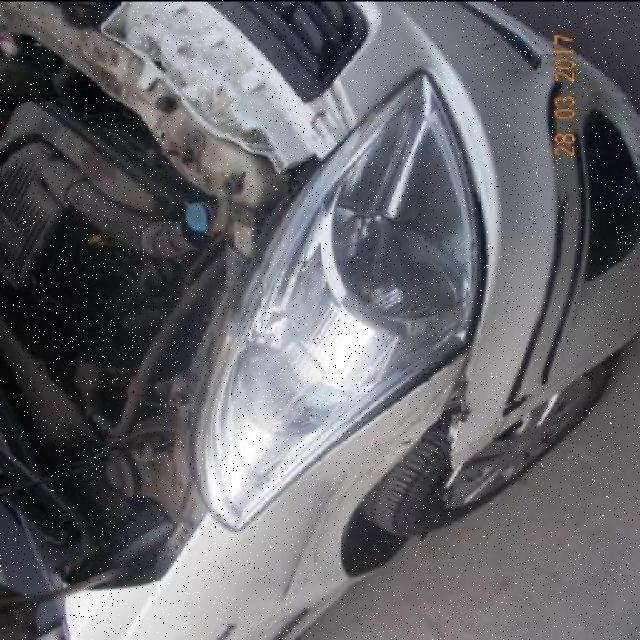damage: (274, 366, 452, 595), (390, 340, 477, 465)
